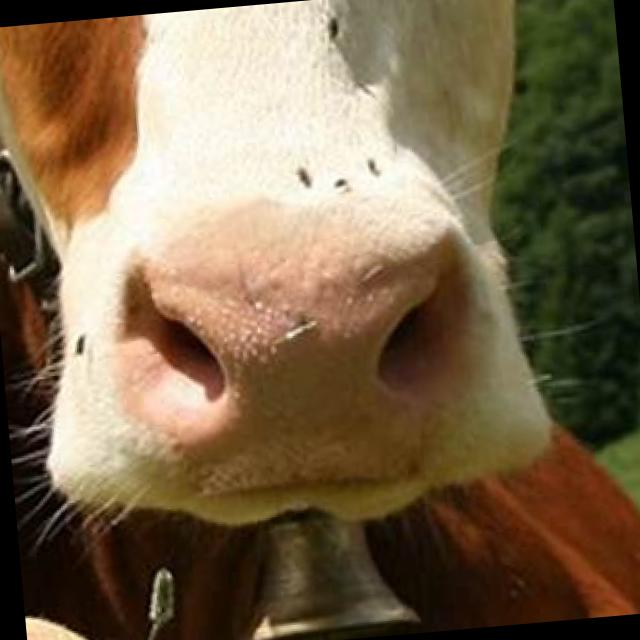animal: (0, 0, 588, 594)
